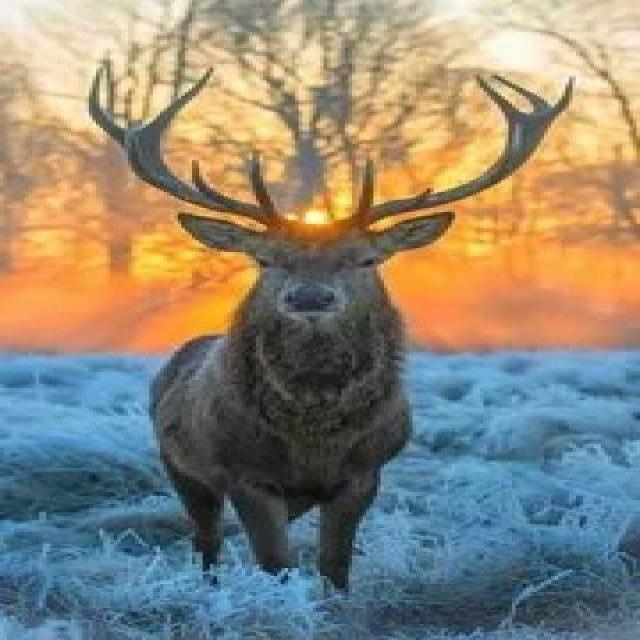deer: (73, 48, 558, 599)
